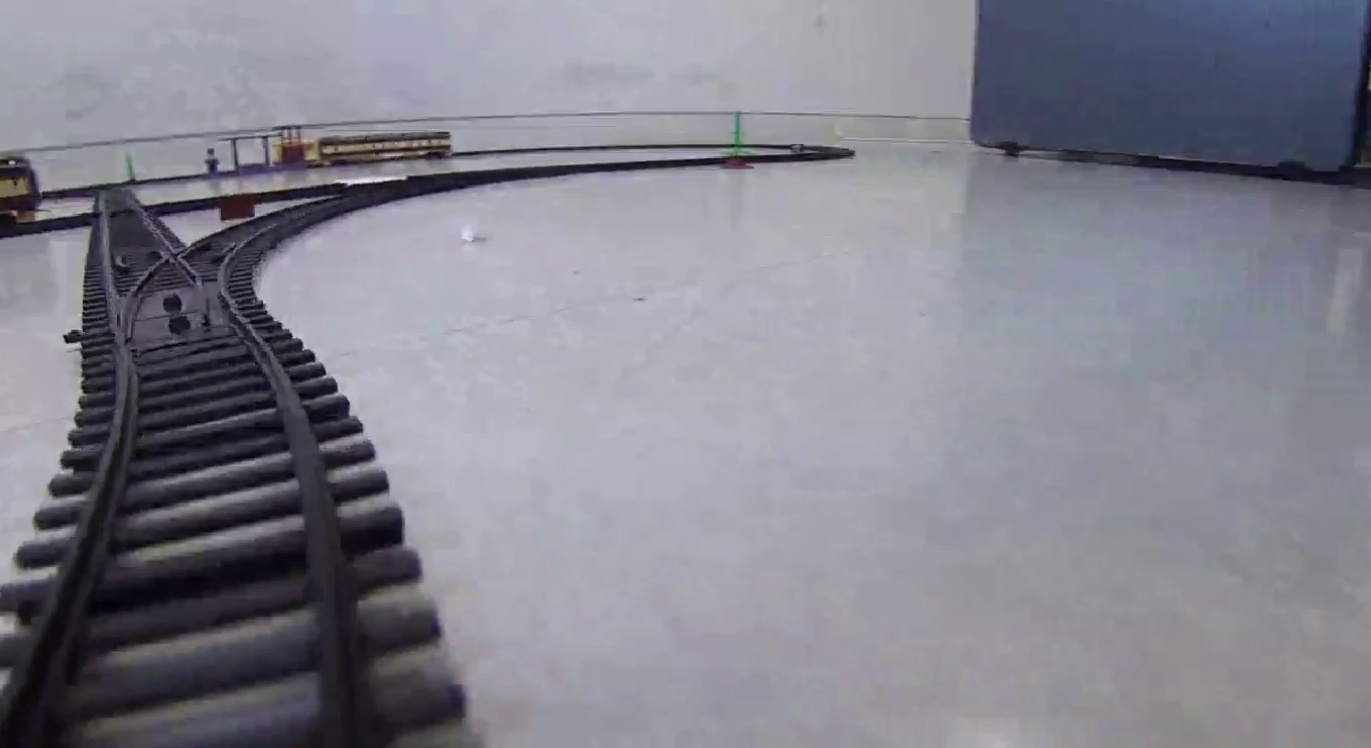box: (217, 192, 257, 225)
